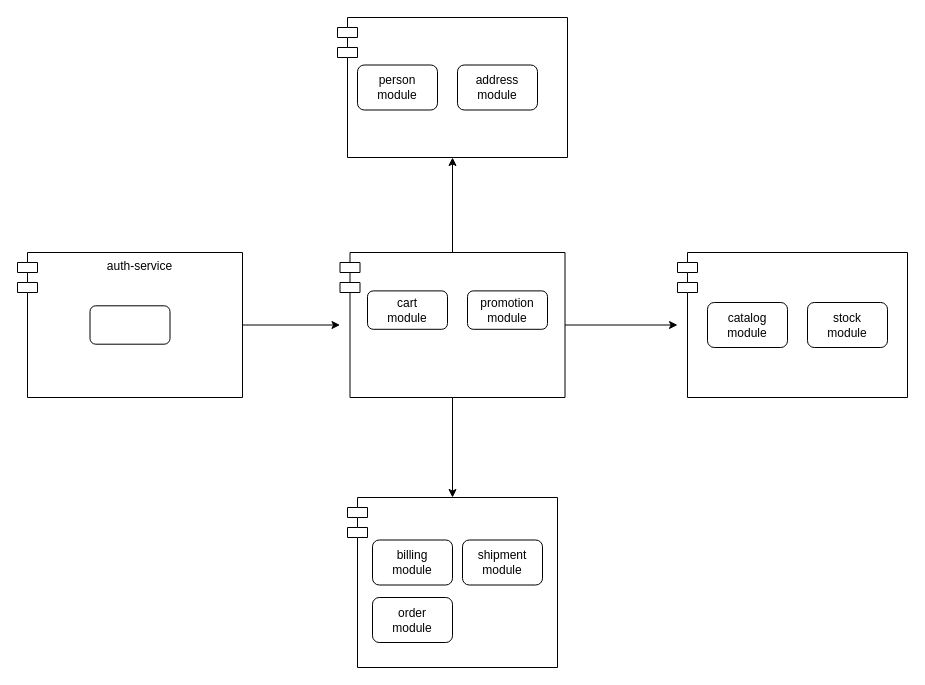
The diagram is 925 pixels wide and 685 high, and some of its shapes have lost their labels. The box of each missing label's shape, as (x1, y1, x2, y2) in pixels:
cart-service: (339, 252, 565, 398)
order-service: (346, 496, 558, 668)
person-service: (336, 16, 568, 158)
product-service: (676, 252, 908, 398)
security module: (89, 305, 170, 344)
